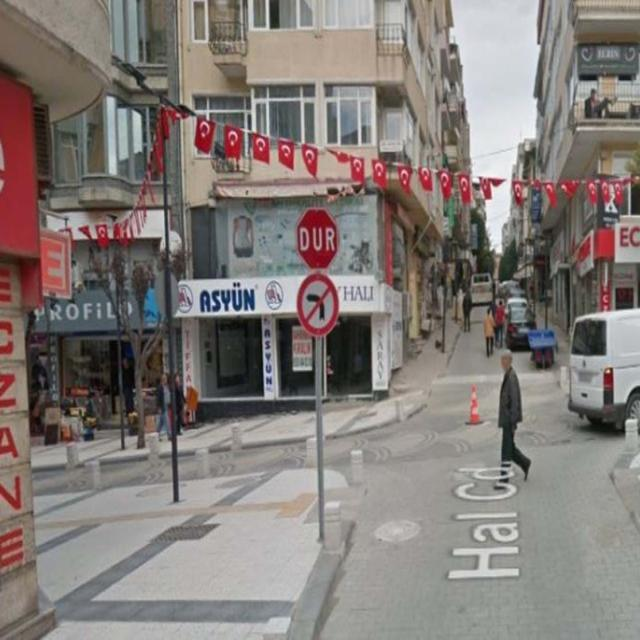dur: (296, 207, 338, 270)
soladonulmez: (296, 272, 340, 335)
